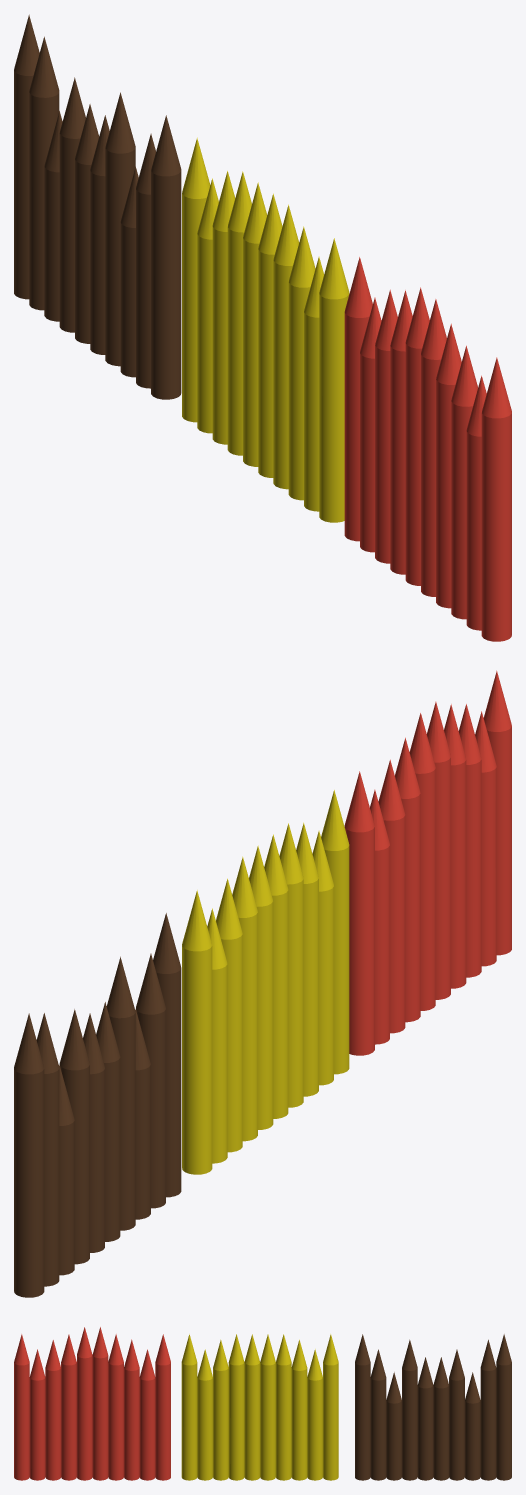
File: wallwood.fbx
3 renders of one model, top to bottom at view 1: azimuth 30°, elevation 25°; view 2: azimuth 150°, elevation 25°; view 3: azimuth 270°, elevation 25°, orthographic. The views are drawn at different scales.
Visible parts, largest first — view 1: wall1, wall2, wall3; view 2: wall2, wall1, wall3; view 3: wall1, wall2, wall3.
Part boxes in pixels (x1,y1,x2,y2): wall1: (344, 257, 511, 641); wall2: (182, 137, 349, 522); wall3: (14, 14, 181, 399); wall2: (182, 790, 349, 1174); wall1: (344, 670, 511, 1055); wall3: (14, 913, 181, 1297); wall1: (14, 1327, 170, 1480); wall2: (181, 1334, 338, 1480); wall3: (355, 1334, 511, 1480).
Bounding box in the file's own units: 0.1982 × 2.1 × 6.28.
